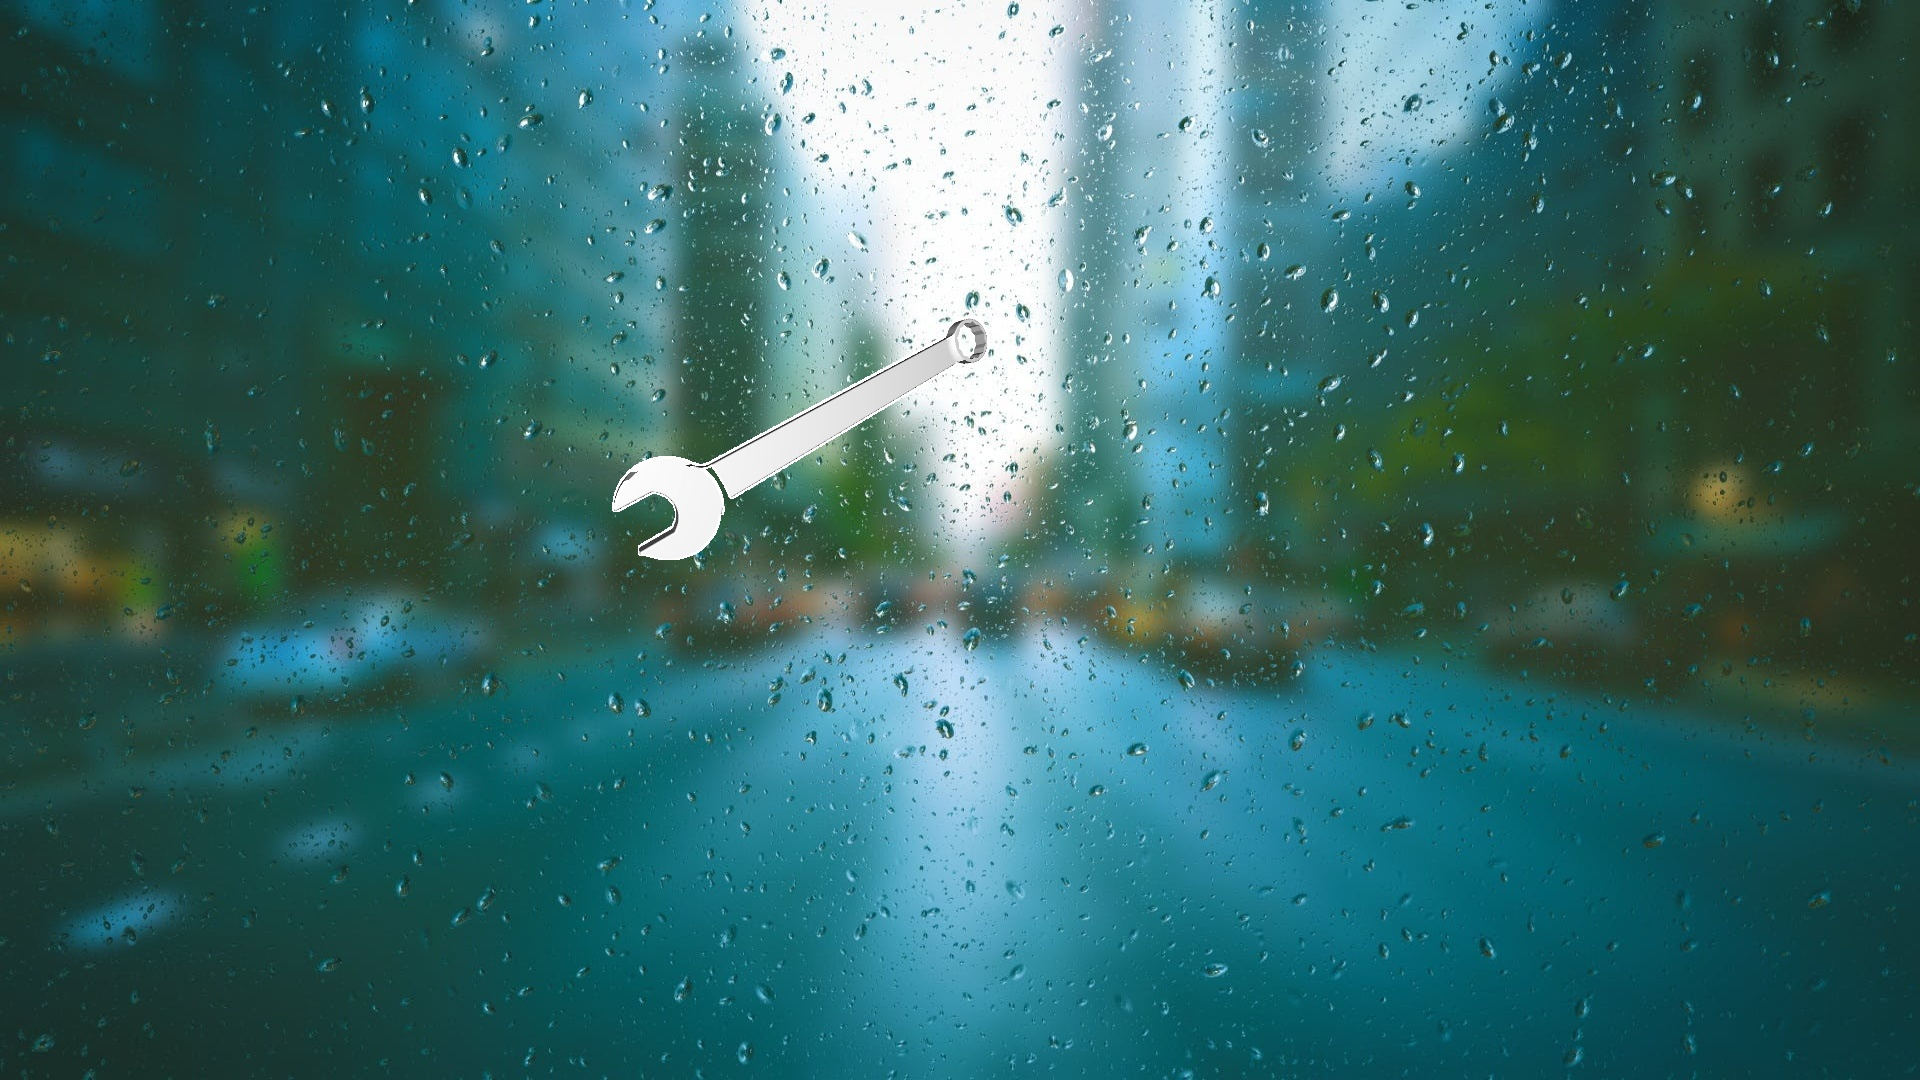Mixed Key: (612, 316, 989, 559)
